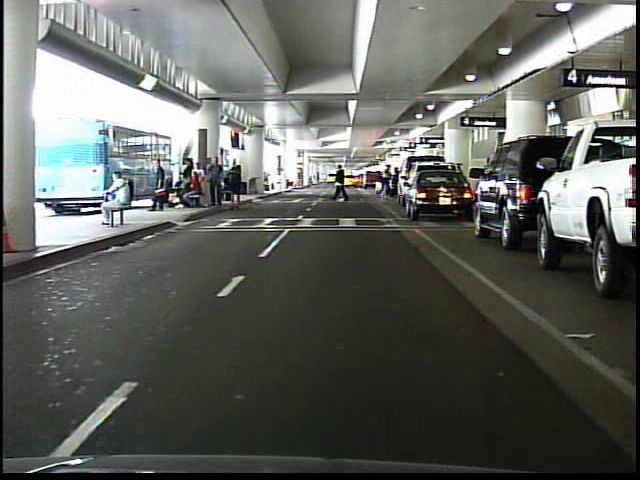person: (87, 165, 134, 231), (144, 155, 169, 215), (333, 162, 353, 207), (377, 161, 393, 197)
